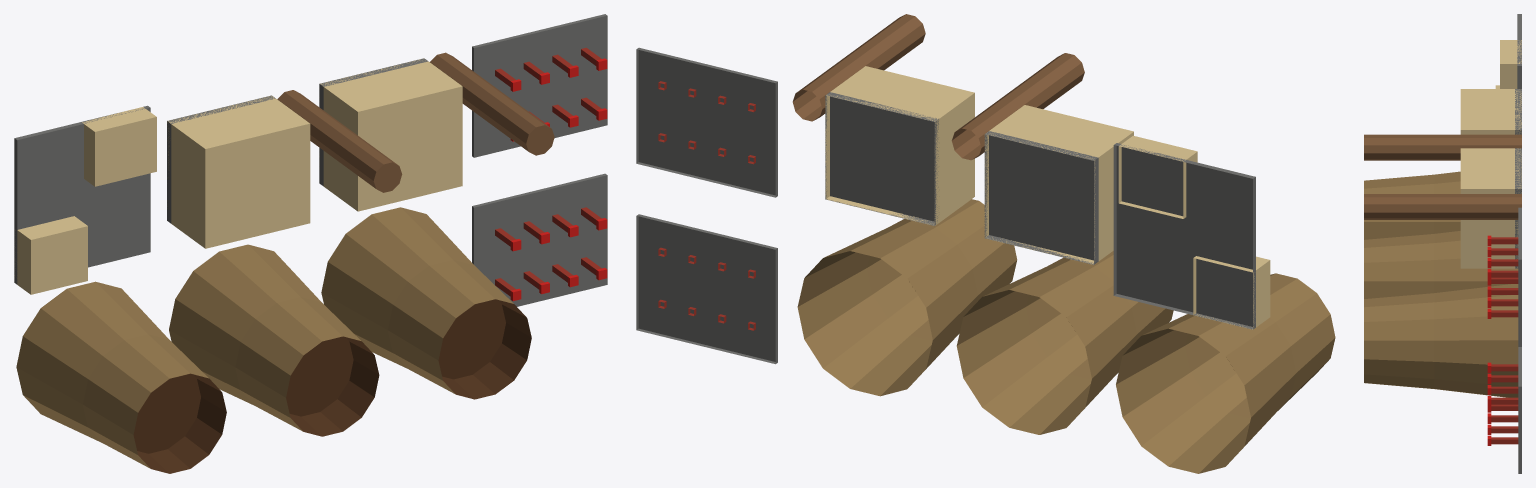
Rendered from construction_1.glb.
The picture shows the model from 3 angles, left to right: view 1: azimuth 30°, elevation 25°; view 2: azimuth 150°, elevation 25°; view 3: azimuth 270°, elevation 25°; orthographic projection. The views are drawn at different scales.
Parts seen in each view (by area): view 1: t00_g7.001, t10_g7.001, t20_g7.001, t11_g8.001, t01_g9.001, t21_g8.001, t30_g10.001, t31_g10.001; view 2: t20_g7.001, t00_g7.001, t01_g9.001, t10_g7.001, t21_g8.001, t11_g8.001, t30_g10.001, t31_g10.001; view 3: t20_g7.001, t21_g8.001, t10_g7.001, t11_g8.001, t00_g7.001, t31_g10.001, t30_g10.001, t01_g9.001.
Boxes of the visible parts, box(x1,y1,x2,y2) form: t00_g7.001: box(16, 281, 226, 473); t10_g7.001: box(169, 244, 379, 436); t20_g7.001: box(321, 207, 531, 399); t11_g8.001: box(167, 90, 402, 248); t01_g9.001: box(14, 105, 156, 294); t21_g8.001: box(319, 52, 554, 211); t30_g10.001: box(472, 173, 607, 306); t31_g10.001: box(472, 14, 607, 157); t20_g7.001: box(797, 199, 1017, 396); t00_g7.001: box(1116, 273, 1335, 473); t01_g9.001: box(1113, 135, 1270, 329); t10_g7.001: box(956, 251, 1173, 434); t21_g8.001: box(792, 14, 974, 225); t11_g8.001: box(951, 53, 1133, 264); t30_g10.001: box(636, 214, 777, 364); t31_g10.001: box(636, 47, 777, 197); t20_g7.001: box(1364, 284, 1518, 397); t21_g8.001: box(1364, 148, 1521, 268); t10_g7.001: box(1364, 231, 1518, 298); t11_g8.001: box(1364, 89, 1521, 160); t00_g7.001: box(1364, 171, 1460, 239); t31_g10.001: box(1487, 207, 1521, 346); t30_g10.001: box(1487, 347, 1521, 473); t01_g9.001: box(1495, 14, 1521, 88).
Size of the model in its own units: 62 by 29.63 by 18.
